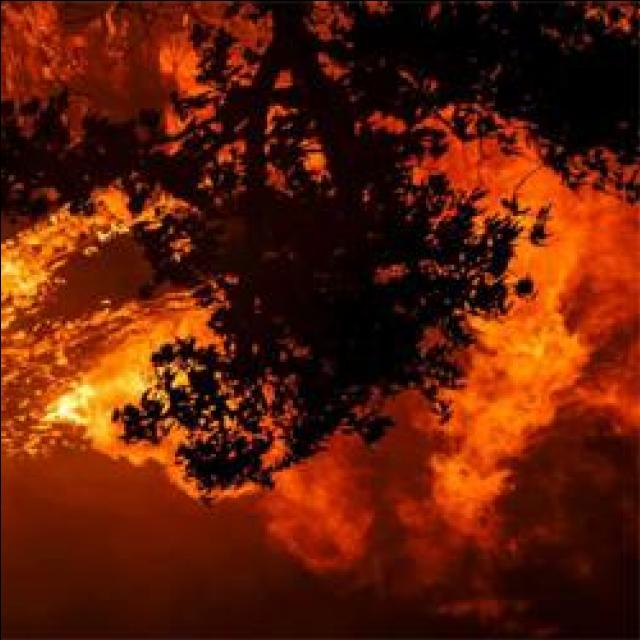fire: (506, 324, 582, 374), (498, 360, 552, 415), (56, 394, 85, 422)
smoke: (258, 458, 378, 570), (582, 207, 640, 321), (428, 452, 496, 538), (438, 146, 540, 192), (590, 348, 640, 432)
